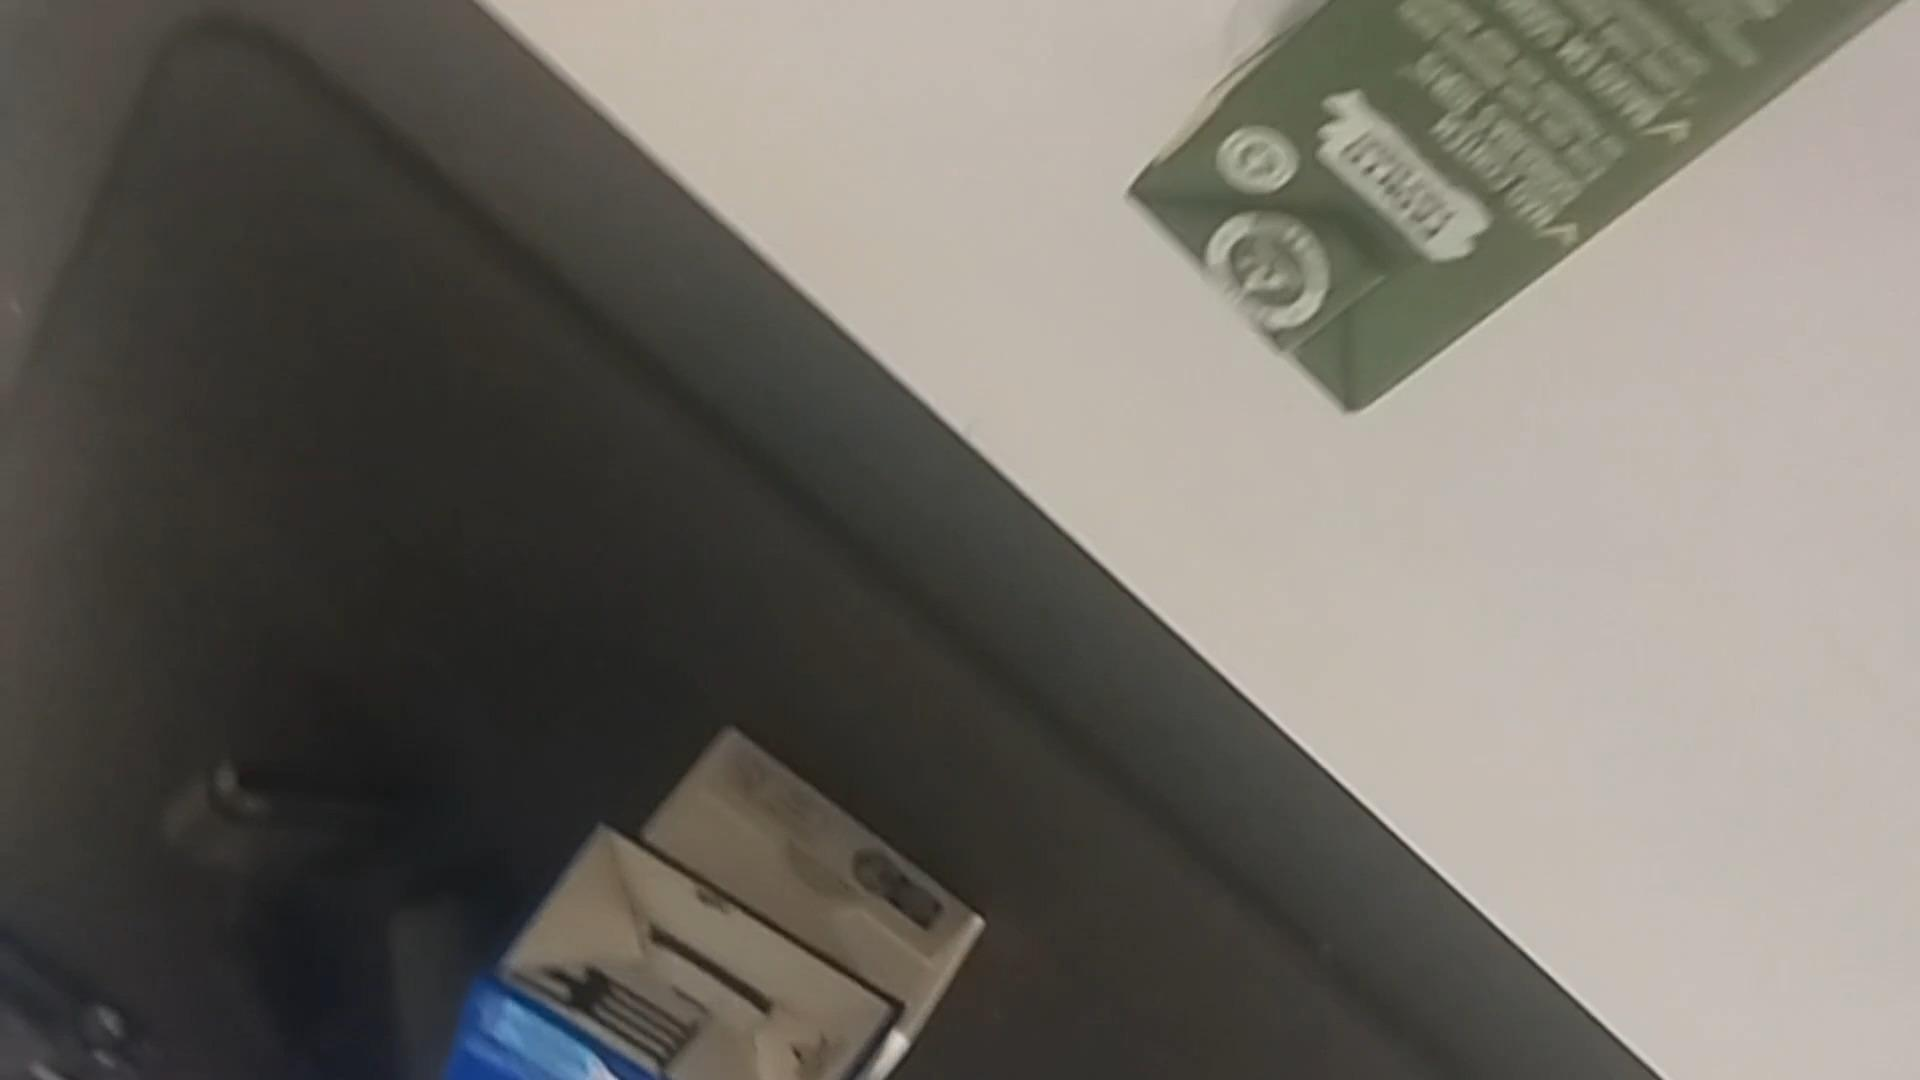coco: (1135, 0, 1920, 418)
